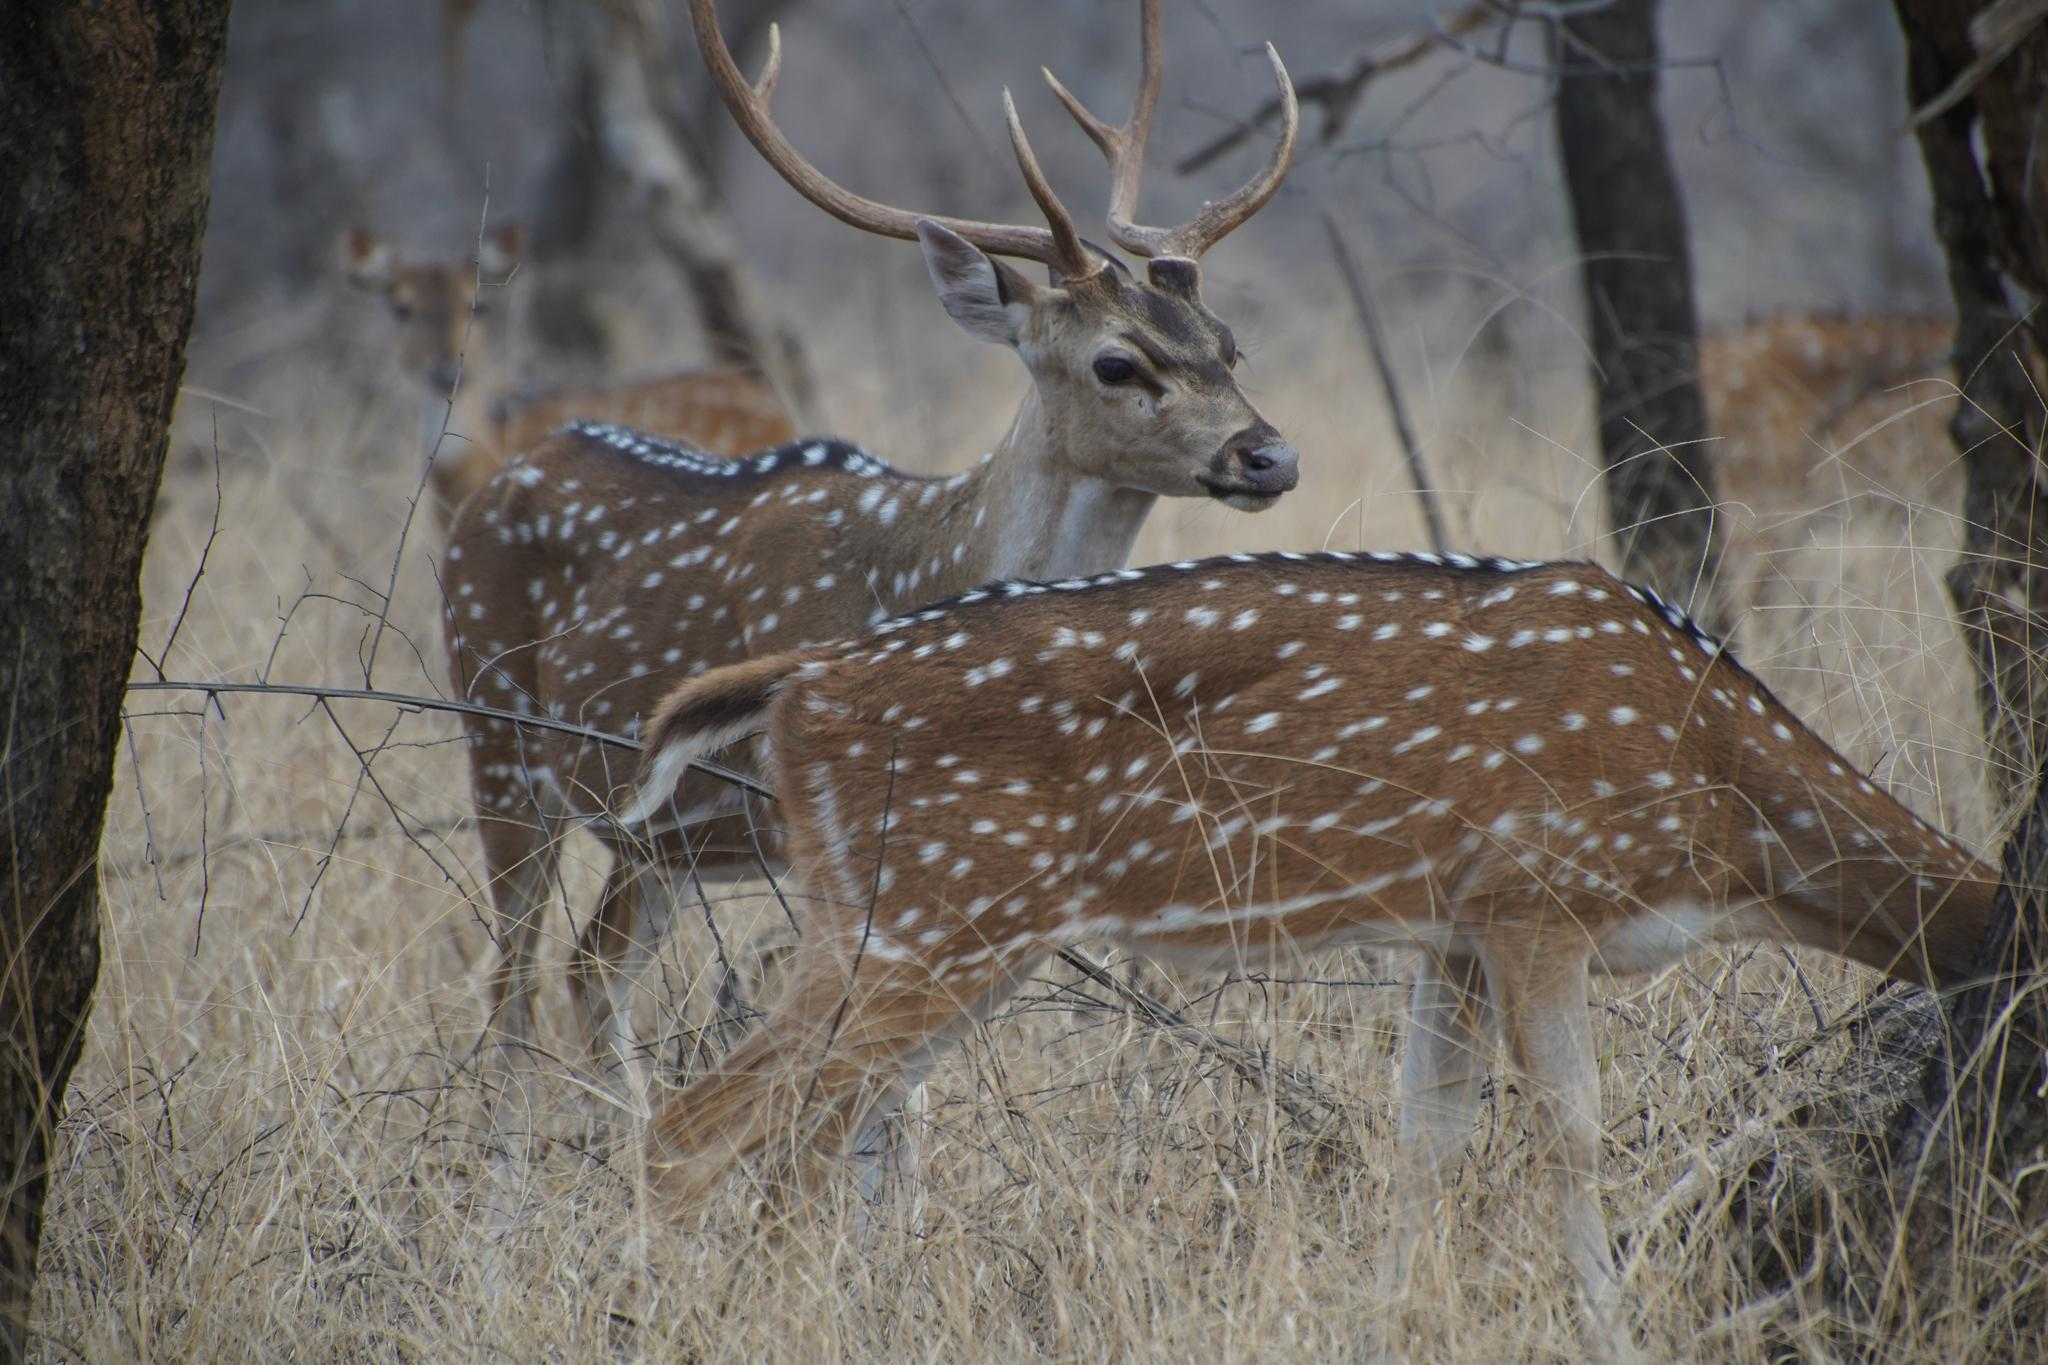Deer: (644, 555, 1998, 1295), (343, 224, 525, 516)
